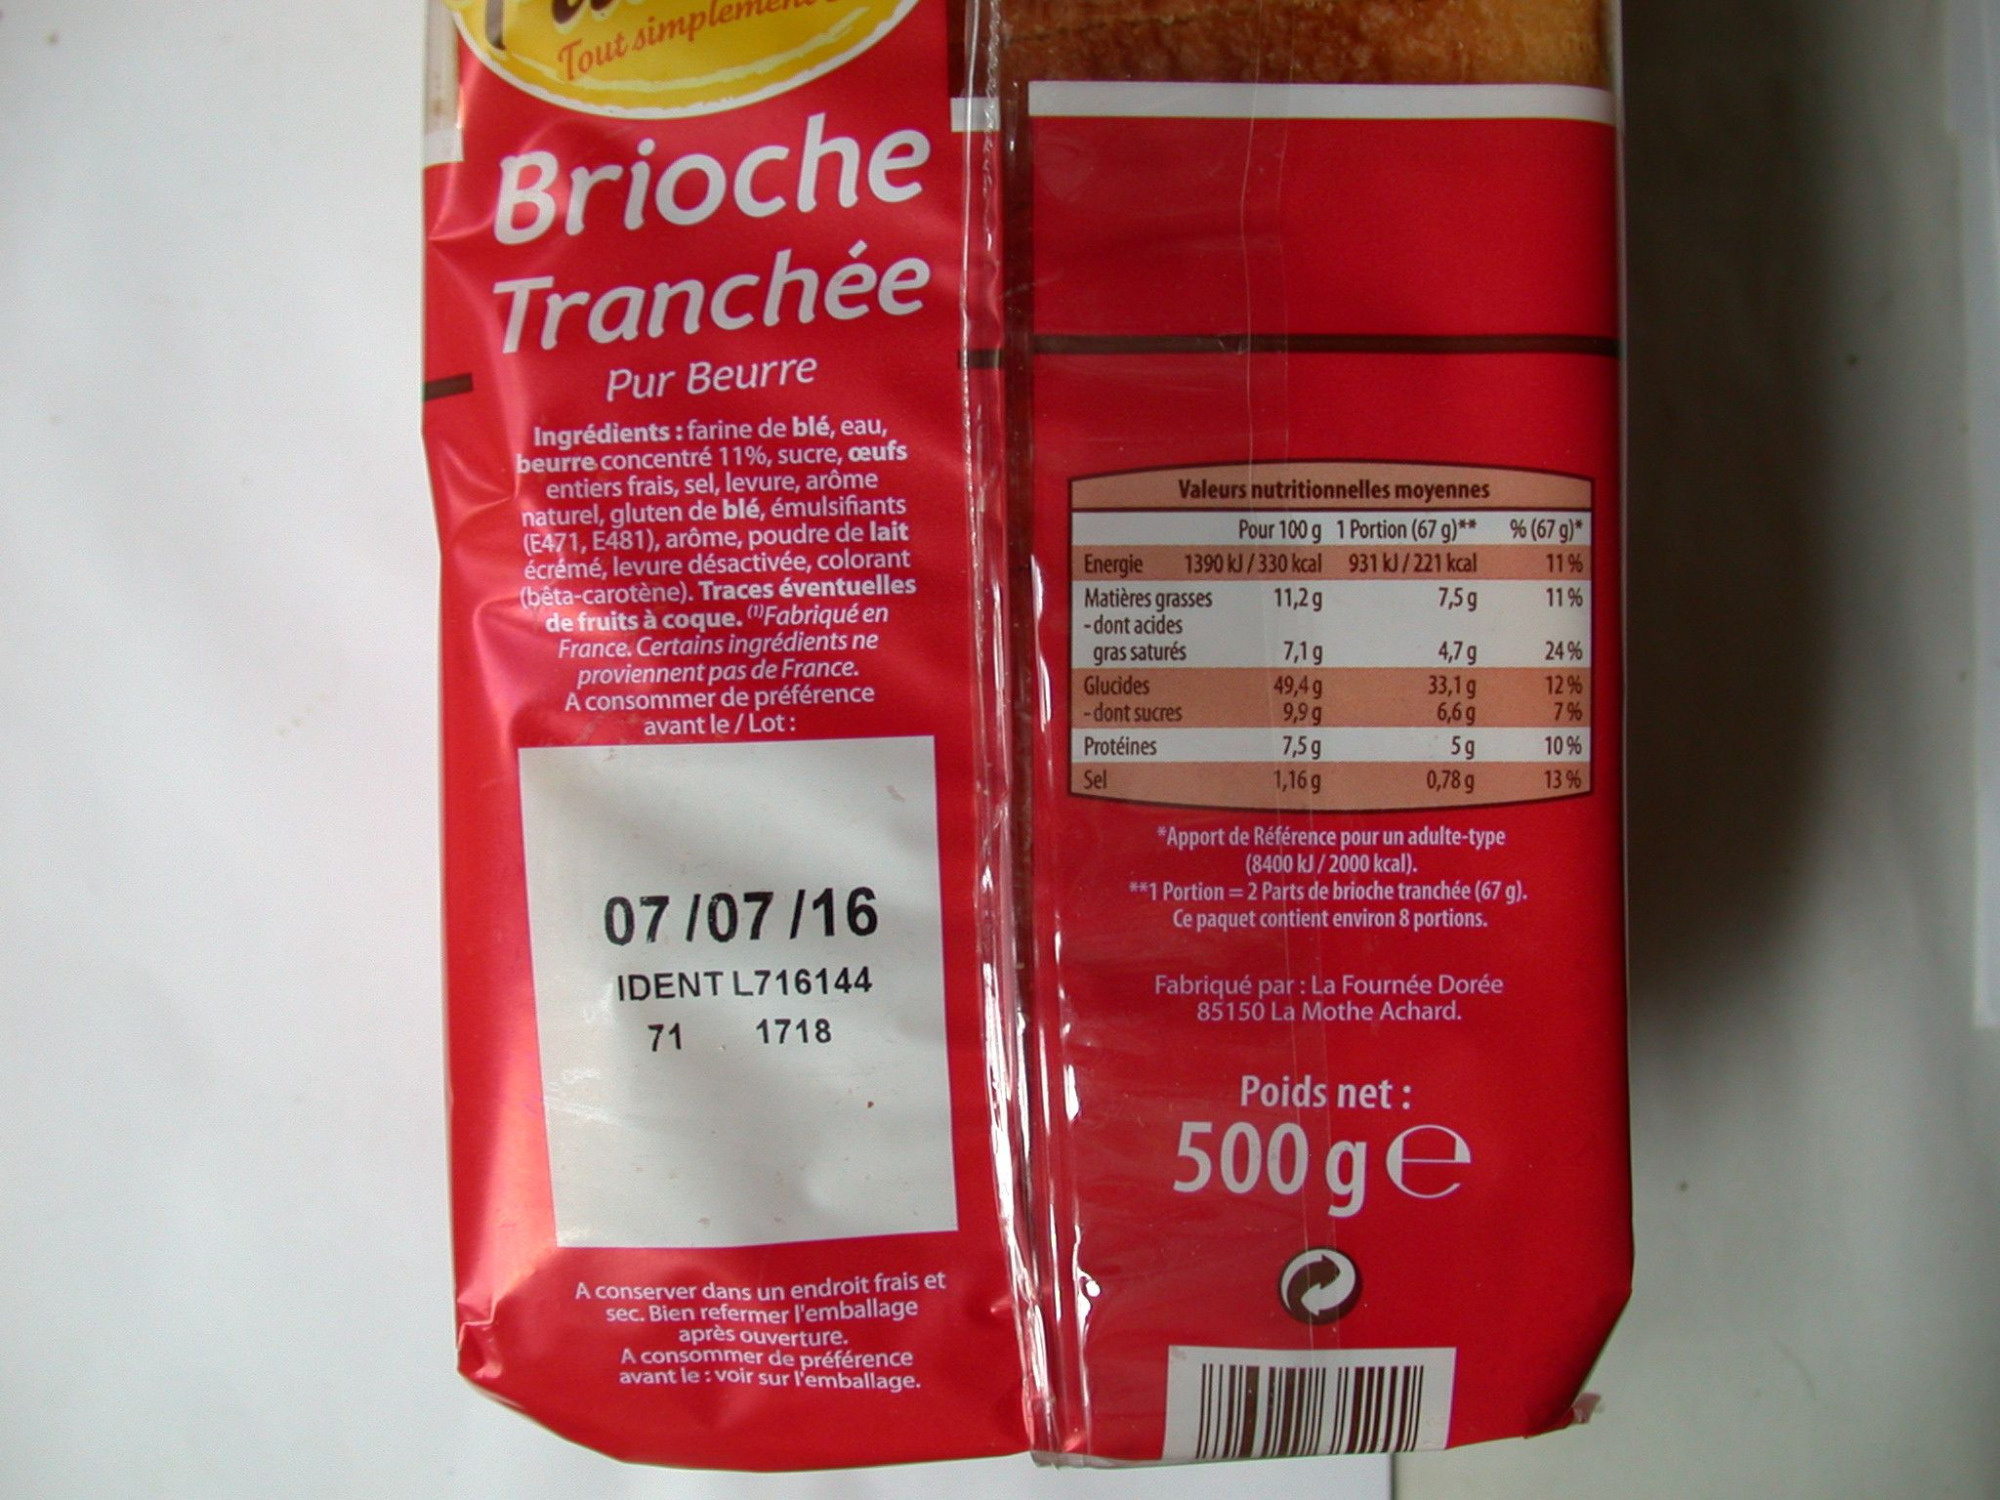column: (1083, 514, 1328, 815), (1335, 507, 1480, 815), (1506, 507, 1595, 818)
table: (1068, 459, 1598, 815)
